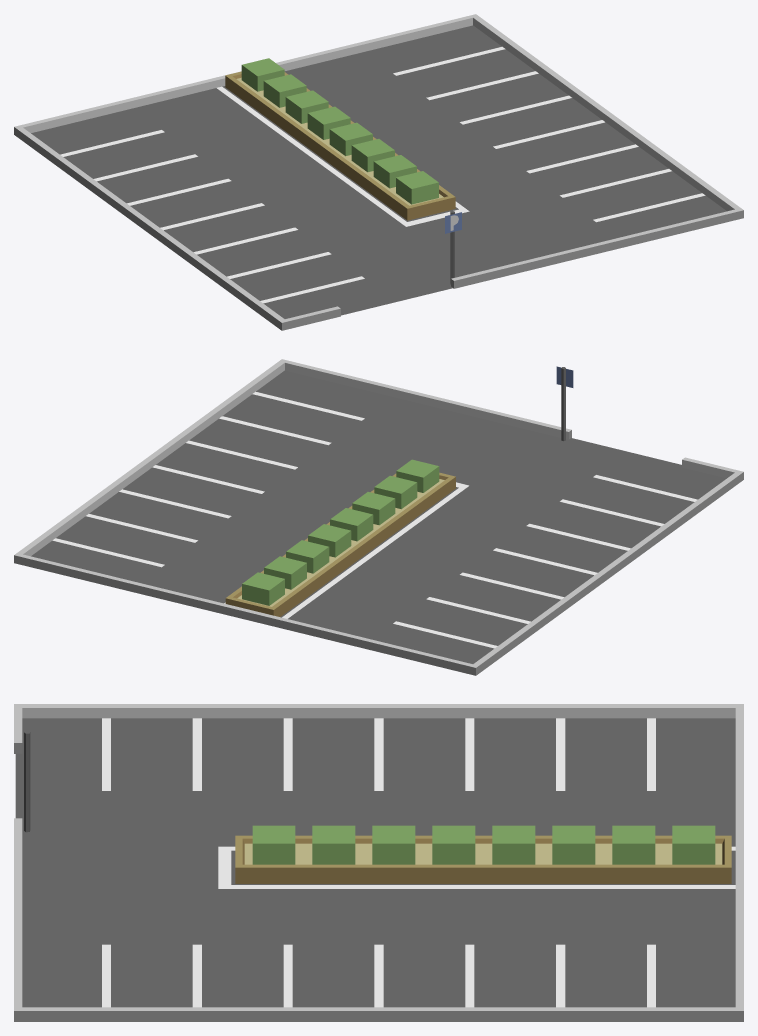
Rendered from parking_tile_2x2_003.fbx.
The picture shows the model from 3 angles, top to bottom: view 1: azimuth 30°, elevation 25°; view 2: azimuth 150°, elevation 25°; view 3: azimuth 270°, elevation 25°; orthographic projection. The views are drawn at different scales.
Visible parts, largest first — view 1: parking_tile_2x2_003; view 2: parking_tile_2x2_003; view 3: parking_tile_2x2_003.
Part boxes in pixels (x1,y1,x2,y2): parking_tile_2x2_003: (14,14,743,330); parking_tile_2x2_003: (14,359,743,675); parking_tile_2x2_003: (14,704,743,1021).
Size of the model in its own units: 1600 by 247 by 1607.
